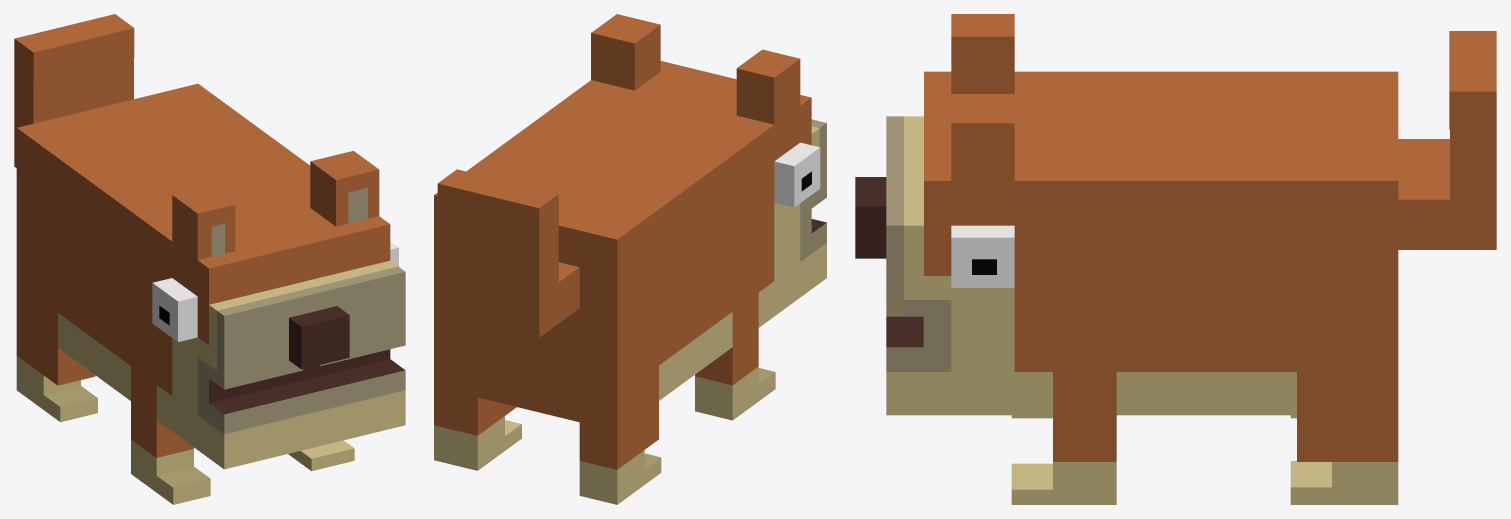
Rendered from marmalade_dog_-_crossy_road.glb.
3 views of the same model, side by side, from view 1: azimuth 30°, elevation 25°; view 2: azimuth 150°, elevation 25°; view 3: azimuth 270°, elevation 25° (orthographic). The views are drawn at different scales.
Visible parts, largest first — view 1: pasted__pCube1; view 2: pasted__pCube1; view 3: pasted__pCube1.
Part boxes in pixels (<box>): pasted__pCube1: <box>14,14,405,504</box>; pasted__pCube1: <box>434,14,826,504</box>; pasted__pCube1: <box>855,14,1496,504</box>.
Bounding box in the file's own units: 1.22 × 1.65 × 2.48.
